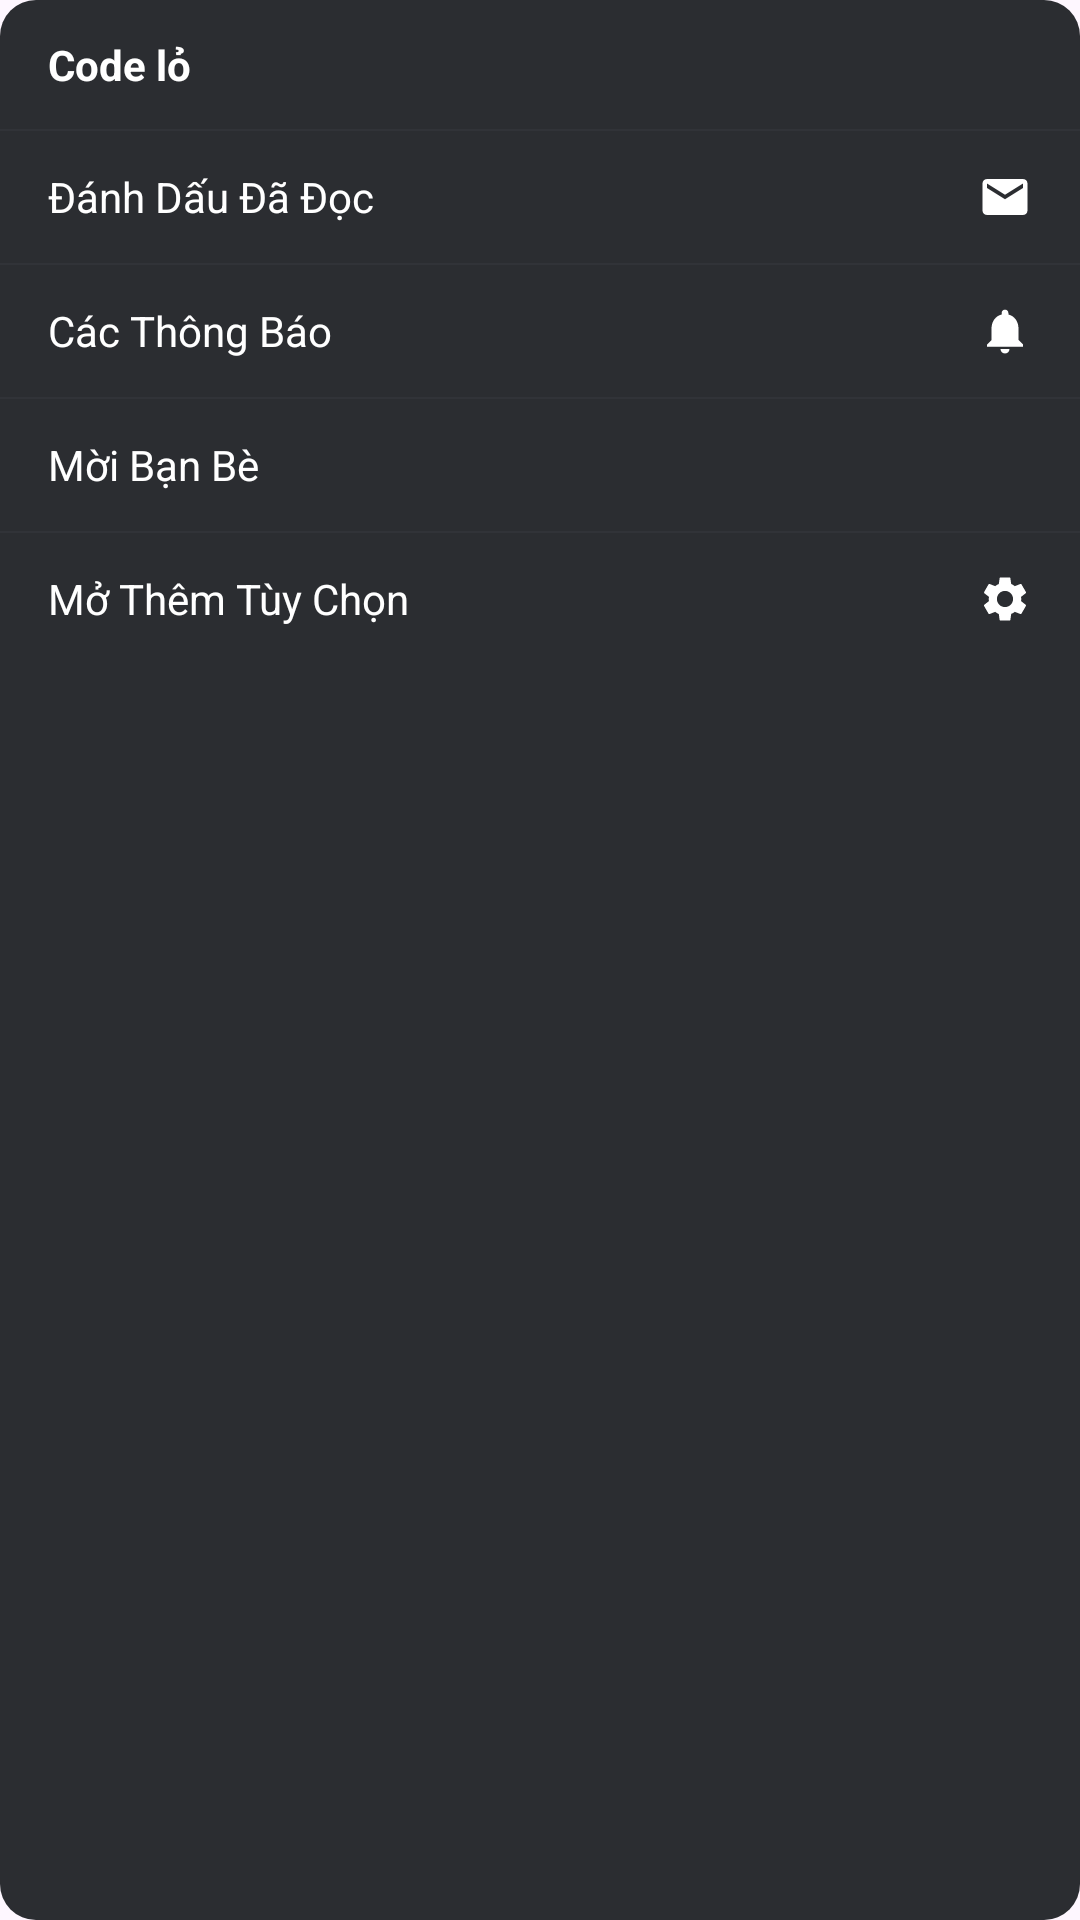

Where icons sit on this 1080 × 1920 app screen, as [left=x1, top=y1, right=x2, bottom=y2]:
mail: [left=982, top=179, right=1028, bottom=215]
notifications: [left=987, top=309, right=1023, bottom=354]
settings: [left=984, top=577, right=1026, bottom=621]
